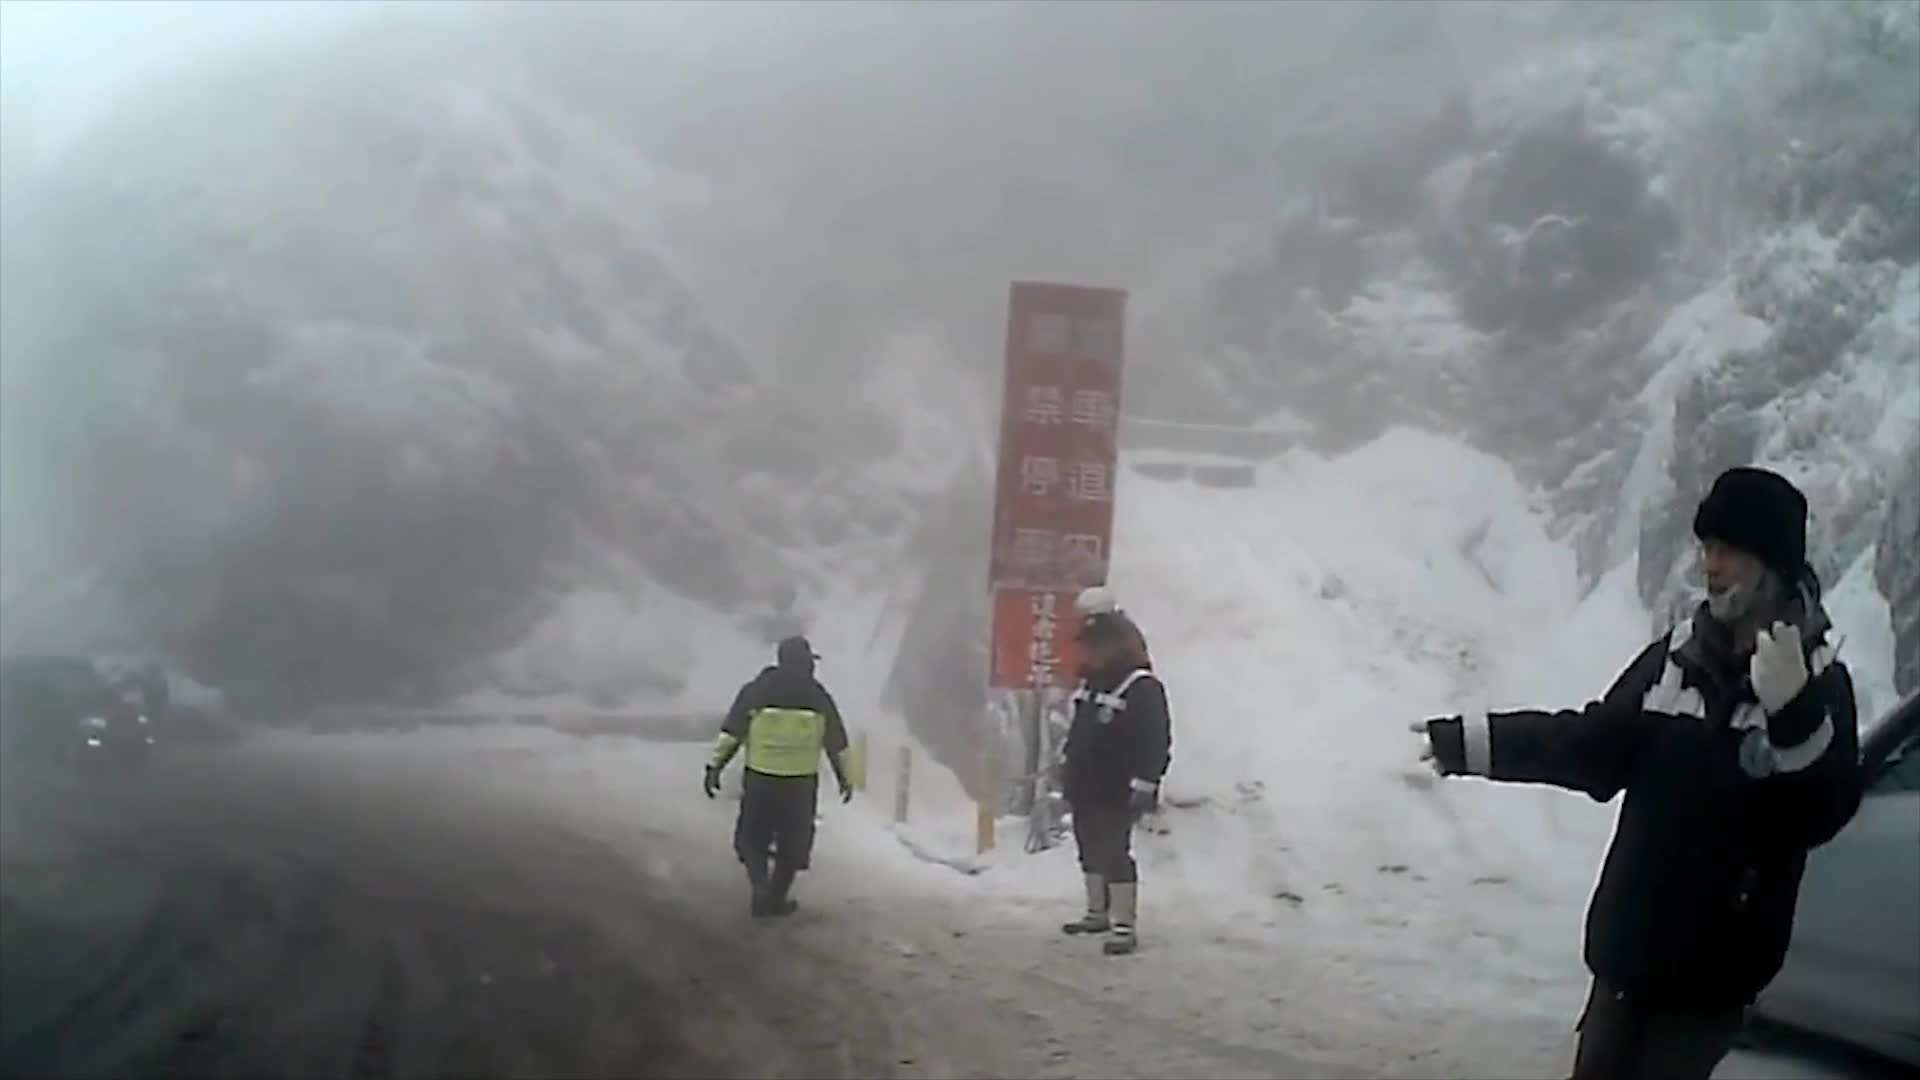pedestrian: (1404, 467, 1864, 1079), (703, 639, 848, 917), (1060, 611, 1176, 953)
vehicle: (1629, 684, 1920, 1080), (0, 654, 154, 774)
